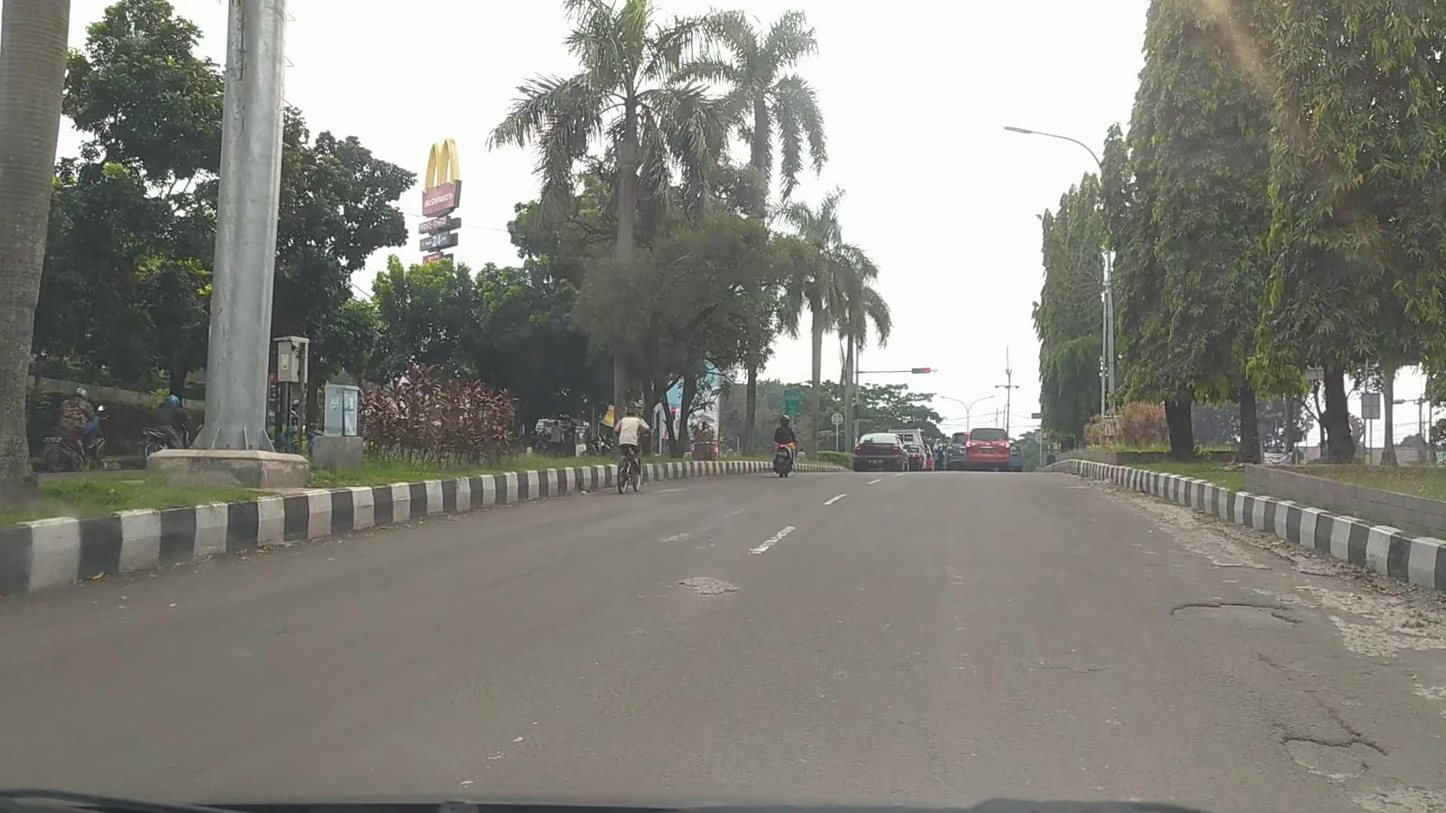pothole: (1281, 731, 1385, 786), (1168, 600, 1304, 630)
